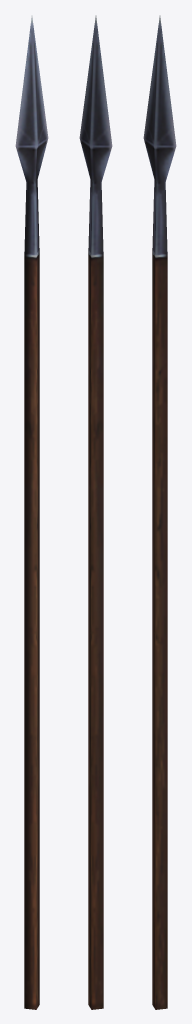
Rendered from Polearm03.FBX.
3 renders of one model, left to right at view 1: azimuth 30°, elevation 25°; view 2: azimuth 150°, elevation 25°; view 3: azimuth 330°, elevation 25°, orthographic.
Visible parts, largest first — view 1: Polearm03; view 2: Polearm03; view 3: Polearm03.
Boxes of the visible parts, x1,y1,x2,y2 form: Polearm03: (15,15,48,1009); Polearm03: (79,15,112,1009); Polearm03: (143,15,176,1009).
Bounding box in the file's own units: 8.33 × 242 × 4.38.
